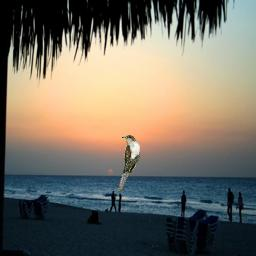Cuckoo: (118, 135, 140, 191)
